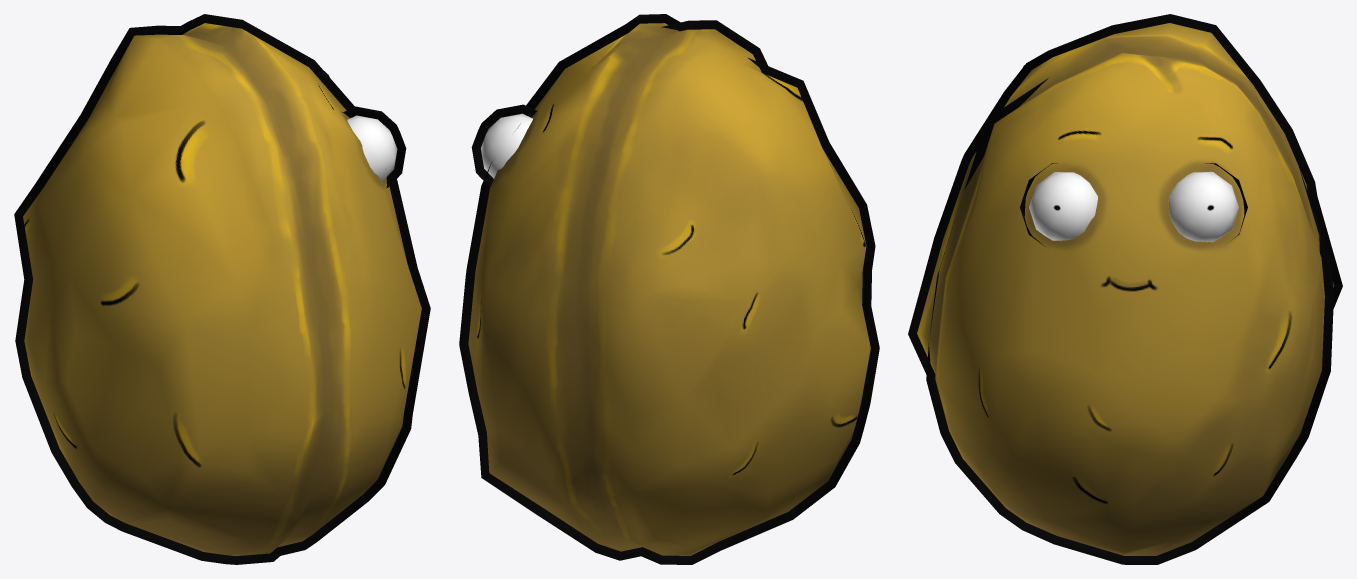
File: WallnutHappy_model.fbx
3 views of the same model, side by side, from view 1: azimuth 30°, elevation 25°; view 2: azimuth 150°, elevation 25°; view 3: azimuth 270°, elevation 25° (orthographic). The views are drawn at different scales.
Parts seen in each view (by area): view 1: WallNut, WallNut-Outline; view 2: WallNut, WallNut-Outline; view 3: WallNut, WallNut-Outline.
Part boxes in pixels (x1,y1,x2,y2): WallNut: (23, 23, 421, 556); WallNut-Outline: (14, 14, 430, 564); WallNut: (468, 23, 870, 555); WallNut-Outline: (459, 14, 879, 564); WallNut: (917, 23, 1334, 555); WallNut-Outline: (908, 14, 1342, 564).
Bounding box in the file's own units: 2.29 × 2.37 × 3.1.
